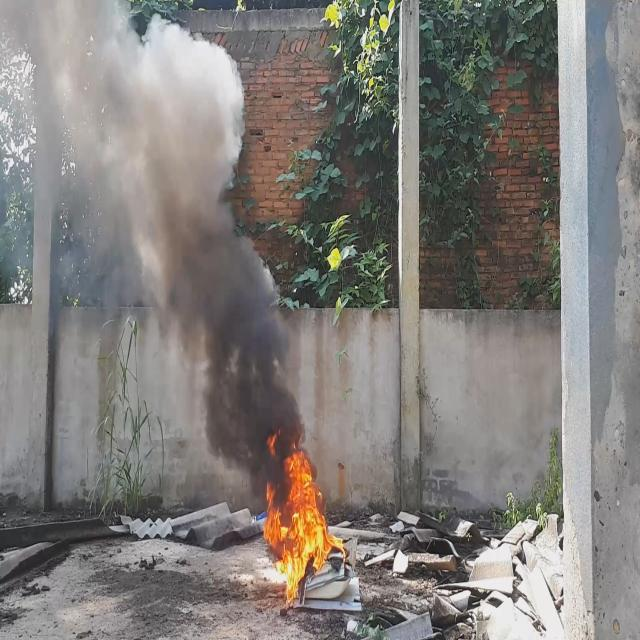Fire: (264, 433, 338, 606)
Smoke: (0, 0, 307, 510)
